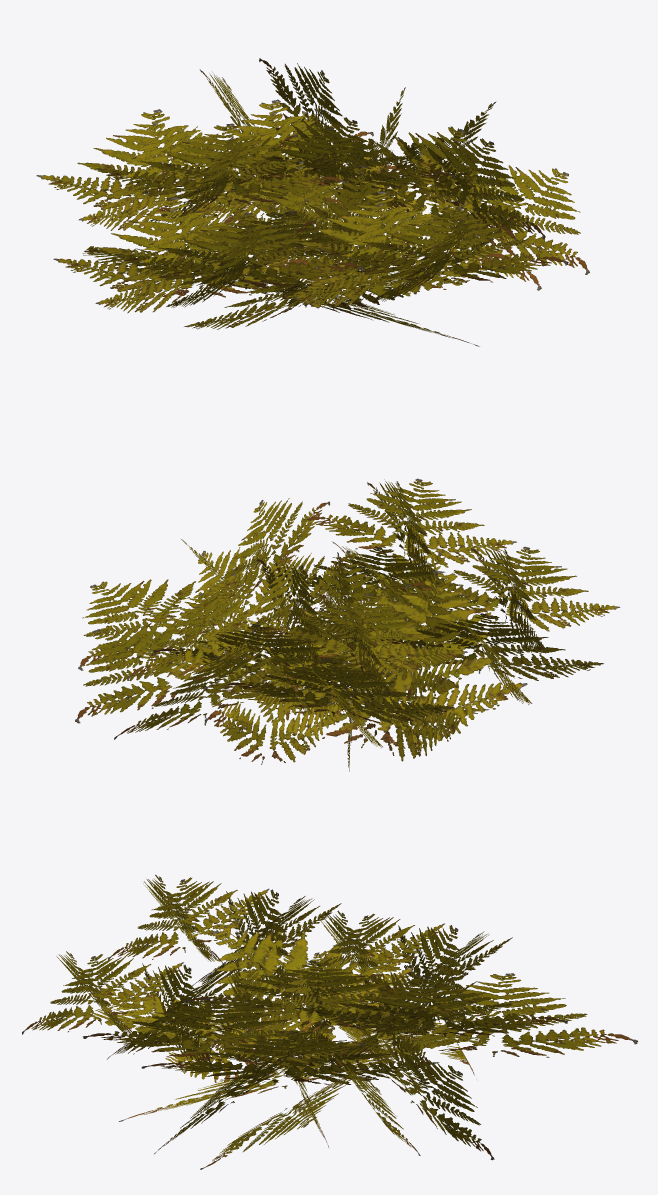
Rendered from genveg_tallgrass12.obj.
3 renders of one model, top to bottom at view 1: azimuth 30°, elevation 25°; view 2: azimuth 150°, elevation 25°; view 3: azimuth 270°, elevation 25°, orthographic. The views are drawn at different scales.
Visible parts, largest first — view 1: genVEG_tallgrass12; view 2: genVEG_tallgrass12; view 3: genVEG_tallgrass12.
Boxes of the visible parts, x1=… form: genVEG_tallgrass12: x1=36, y1=58, x2=589, y2=346; genVEG_tallgrass12: x1=75, y1=478, x2=620, y2=771; genVEG_tallgrass12: x1=22, y1=874, x2=638, y2=1169.
Size of the model in its own units: 12.61 by 4.62 by 13.23.
Materials: 1 (1 with a texture image).
